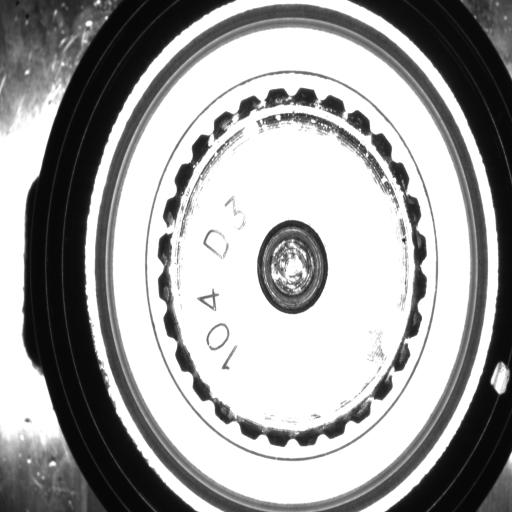gear: (153, 86, 432, 450)
